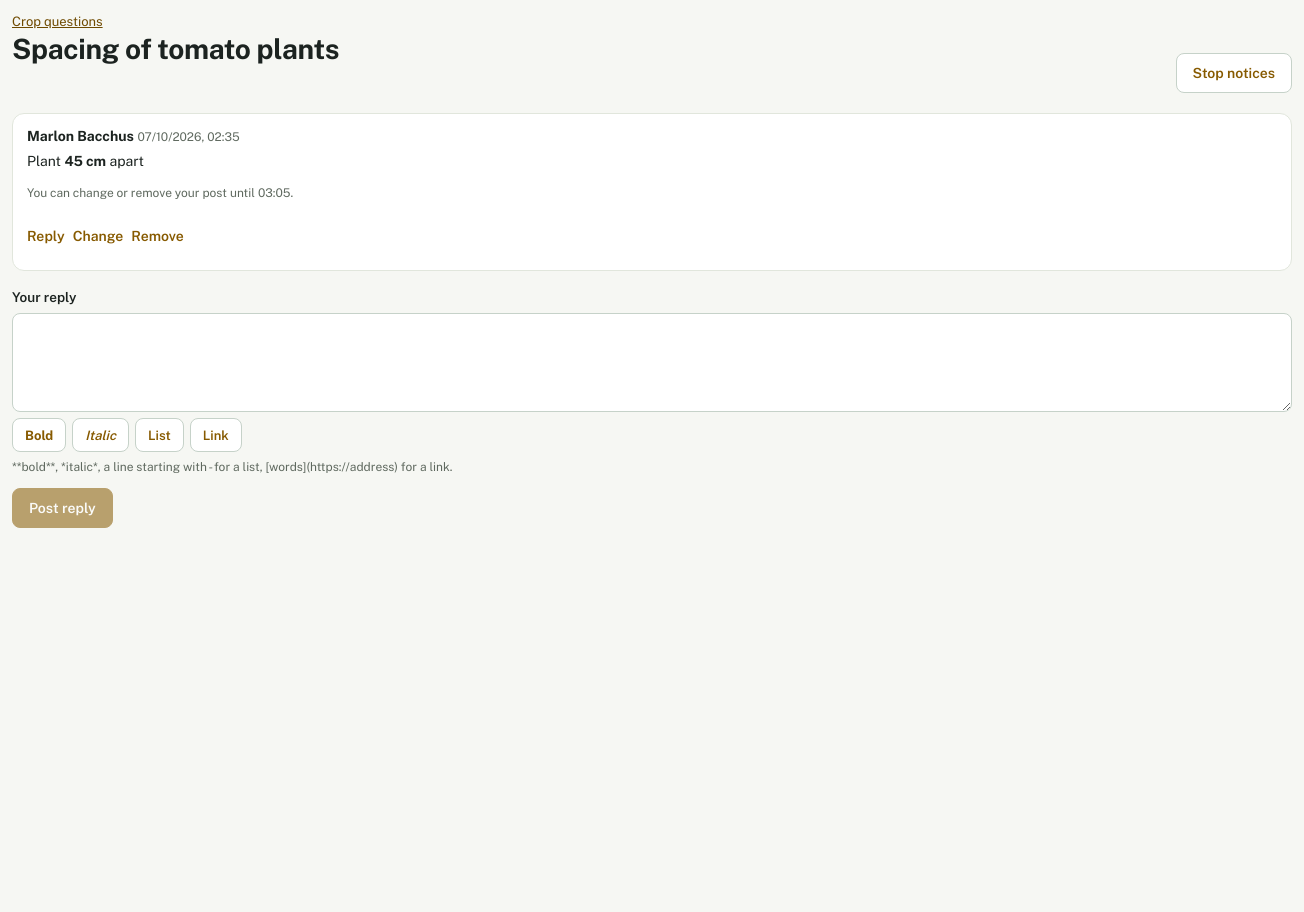
Test: a discussion (items 4.08, 4.09) › lets the author change their post within the window
The width and height of the screenshot is (1304, 912).
Click the button "Change" at [98, 236], box [73,214,123,258]
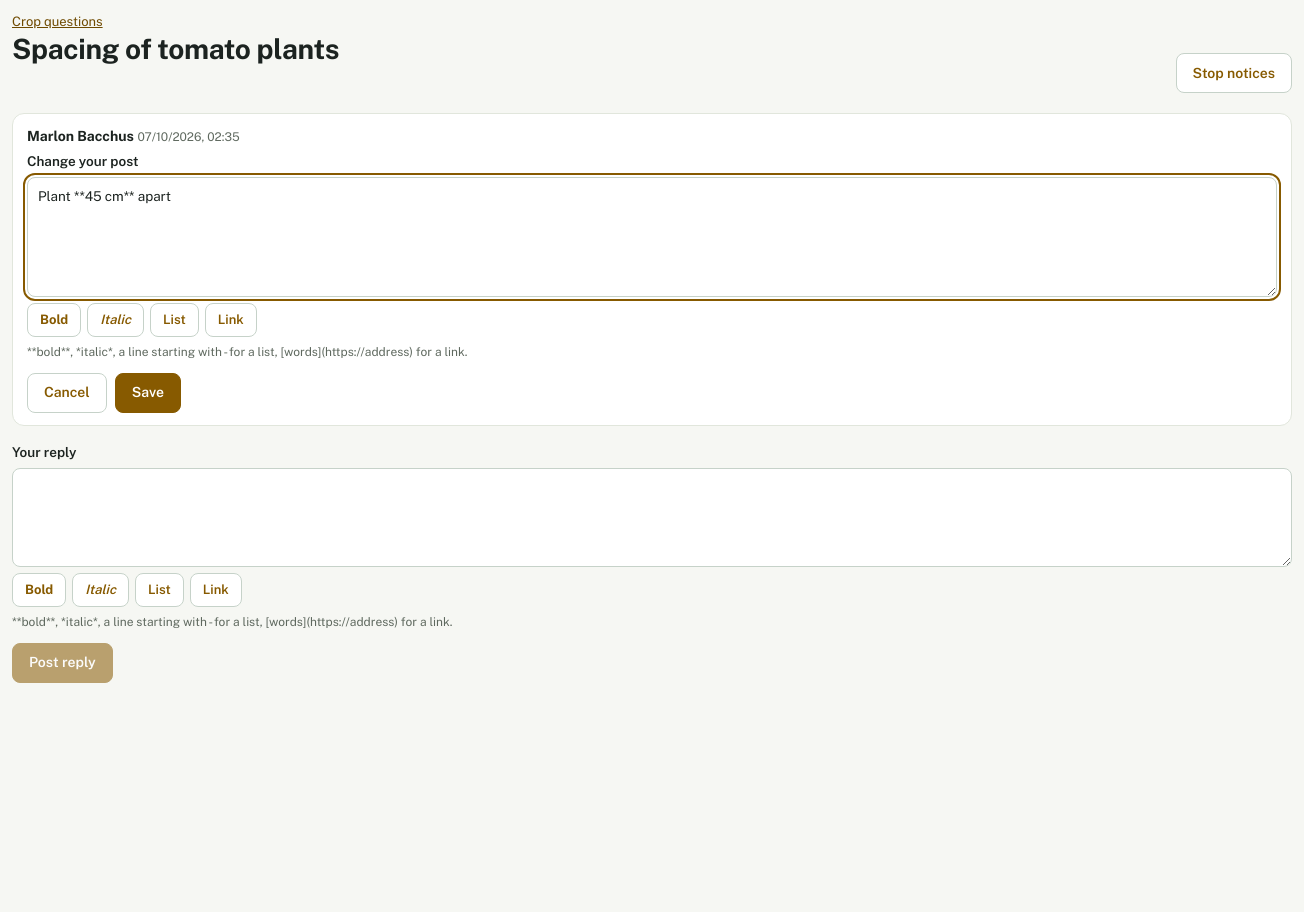
Check: the text box labelled "Change your post" holds "Plant **45 cm** apart"
Type " in rows" into the text box labelled "Change your post" at [652, 237], box [27,177,1277,297]
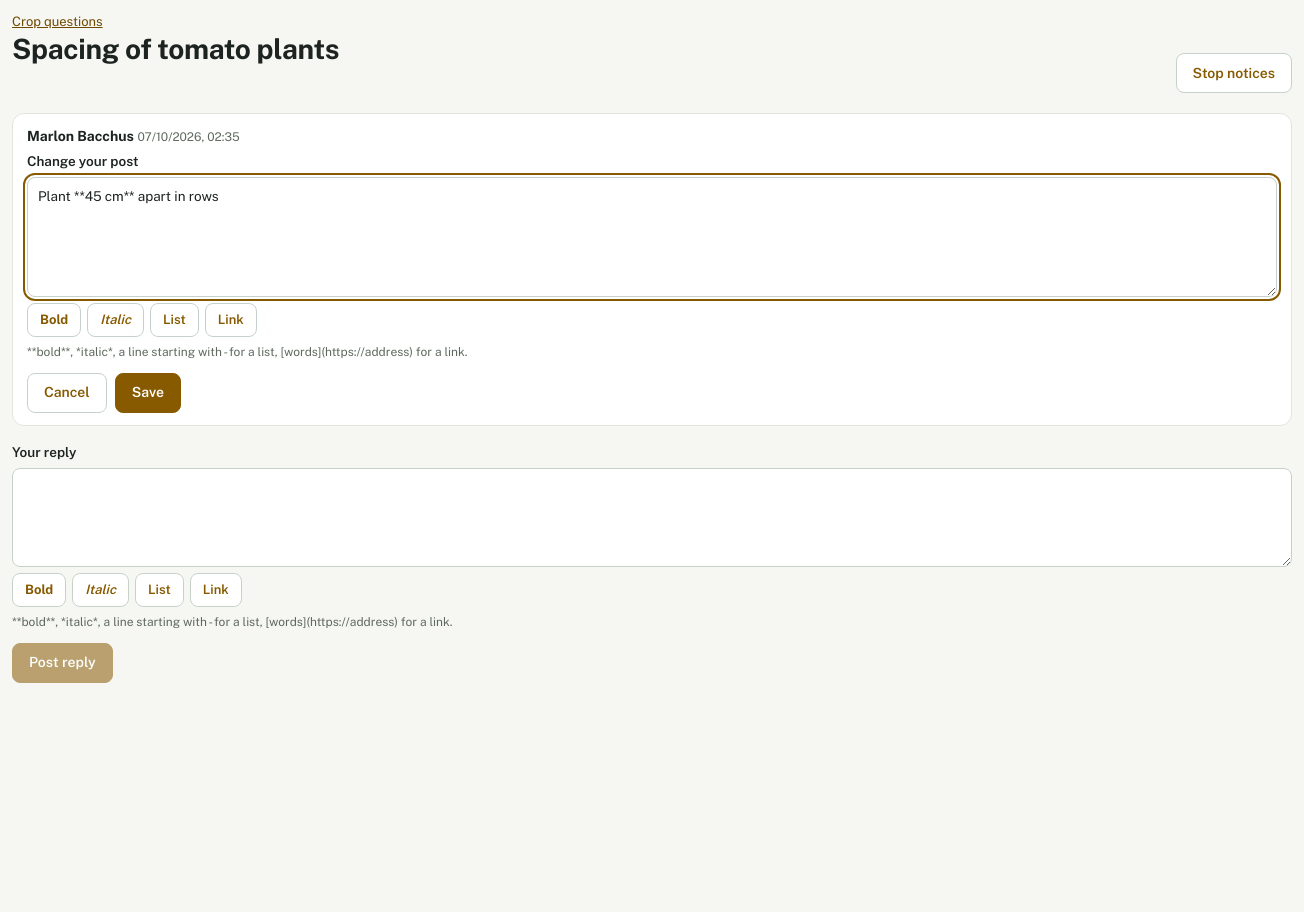
Click the button "Save" at [148, 393], box [115,373,181,413]
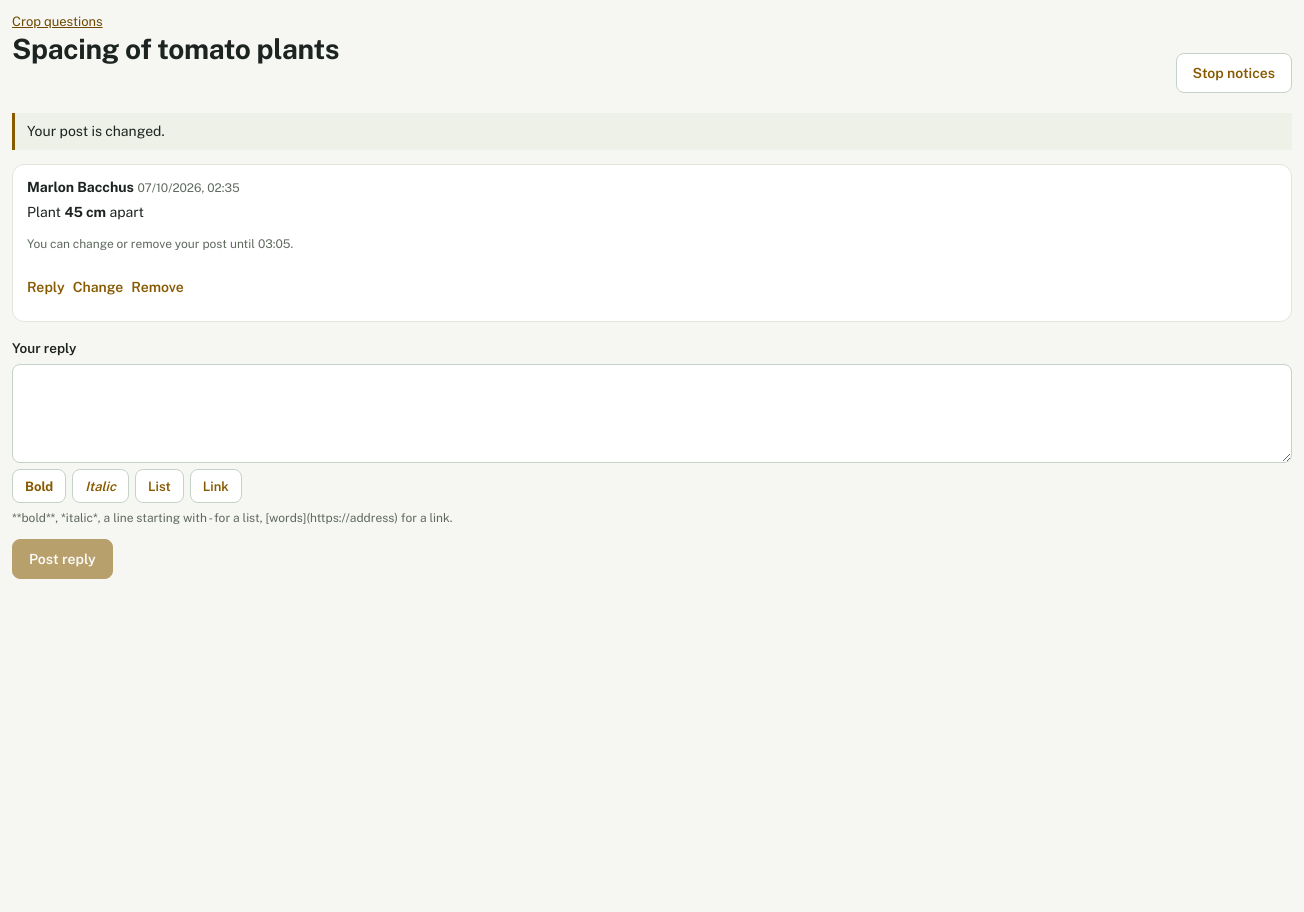
Check: the text "Your post is changed." is shown, box [12,113,1292,150]
